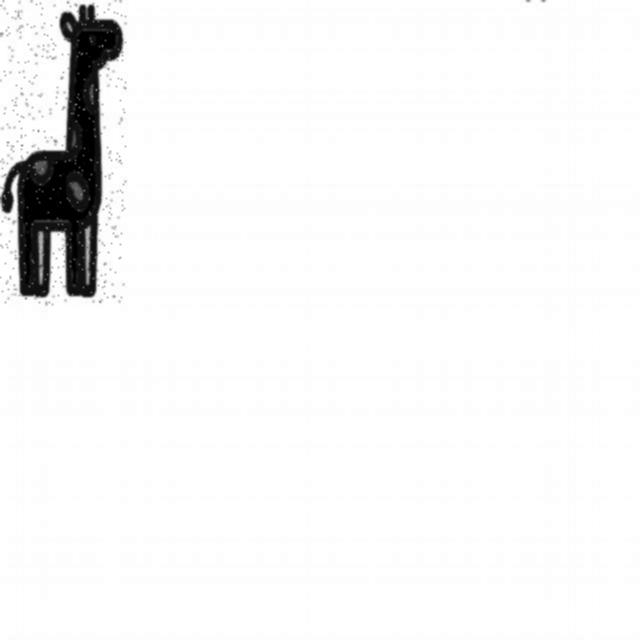girafe: (1, 1, 127, 306)
